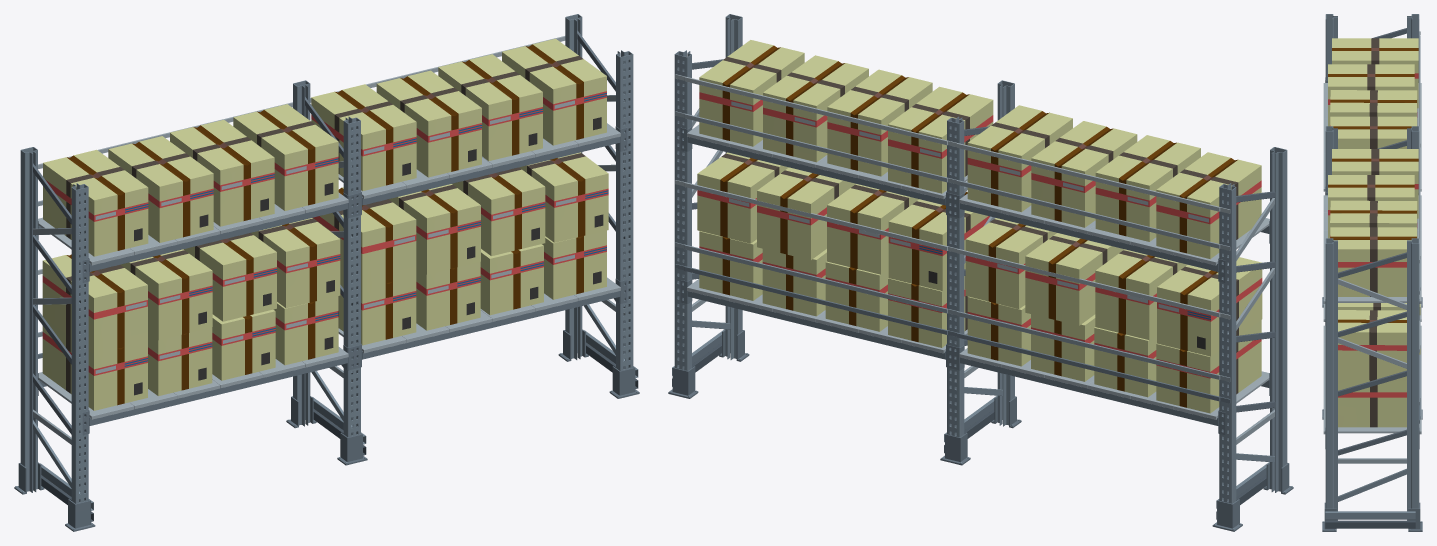
The model's file is SM_ShelfBoxesx2_White_D.fbx.
3 renders of one model, left to right at view 1: azimuth 30°, elevation 25°; view 2: azimuth 150°, elevation 25°; view 3: azimuth 270°, elevation 25°, orthographic. The views are drawn at different scales.
Parts seen in each view (by area): view 1: SM_ShelfBoxesx2_White_D; view 2: SM_ShelfBoxesx2_White_D; view 3: SM_ShelfBoxesx2_White_D.
Part boxes in pixels (<box>): SM_ShelfBoxesx2_White_D: <box>14,14,639,531</box>; SM_ShelfBoxesx2_White_D: <box>668,14,1293,531</box>; SM_ShelfBoxesx2_White_D: <box>1322,14,1422,531</box>.
Bounding box in the file's own units: 647 × 370 × 118.
